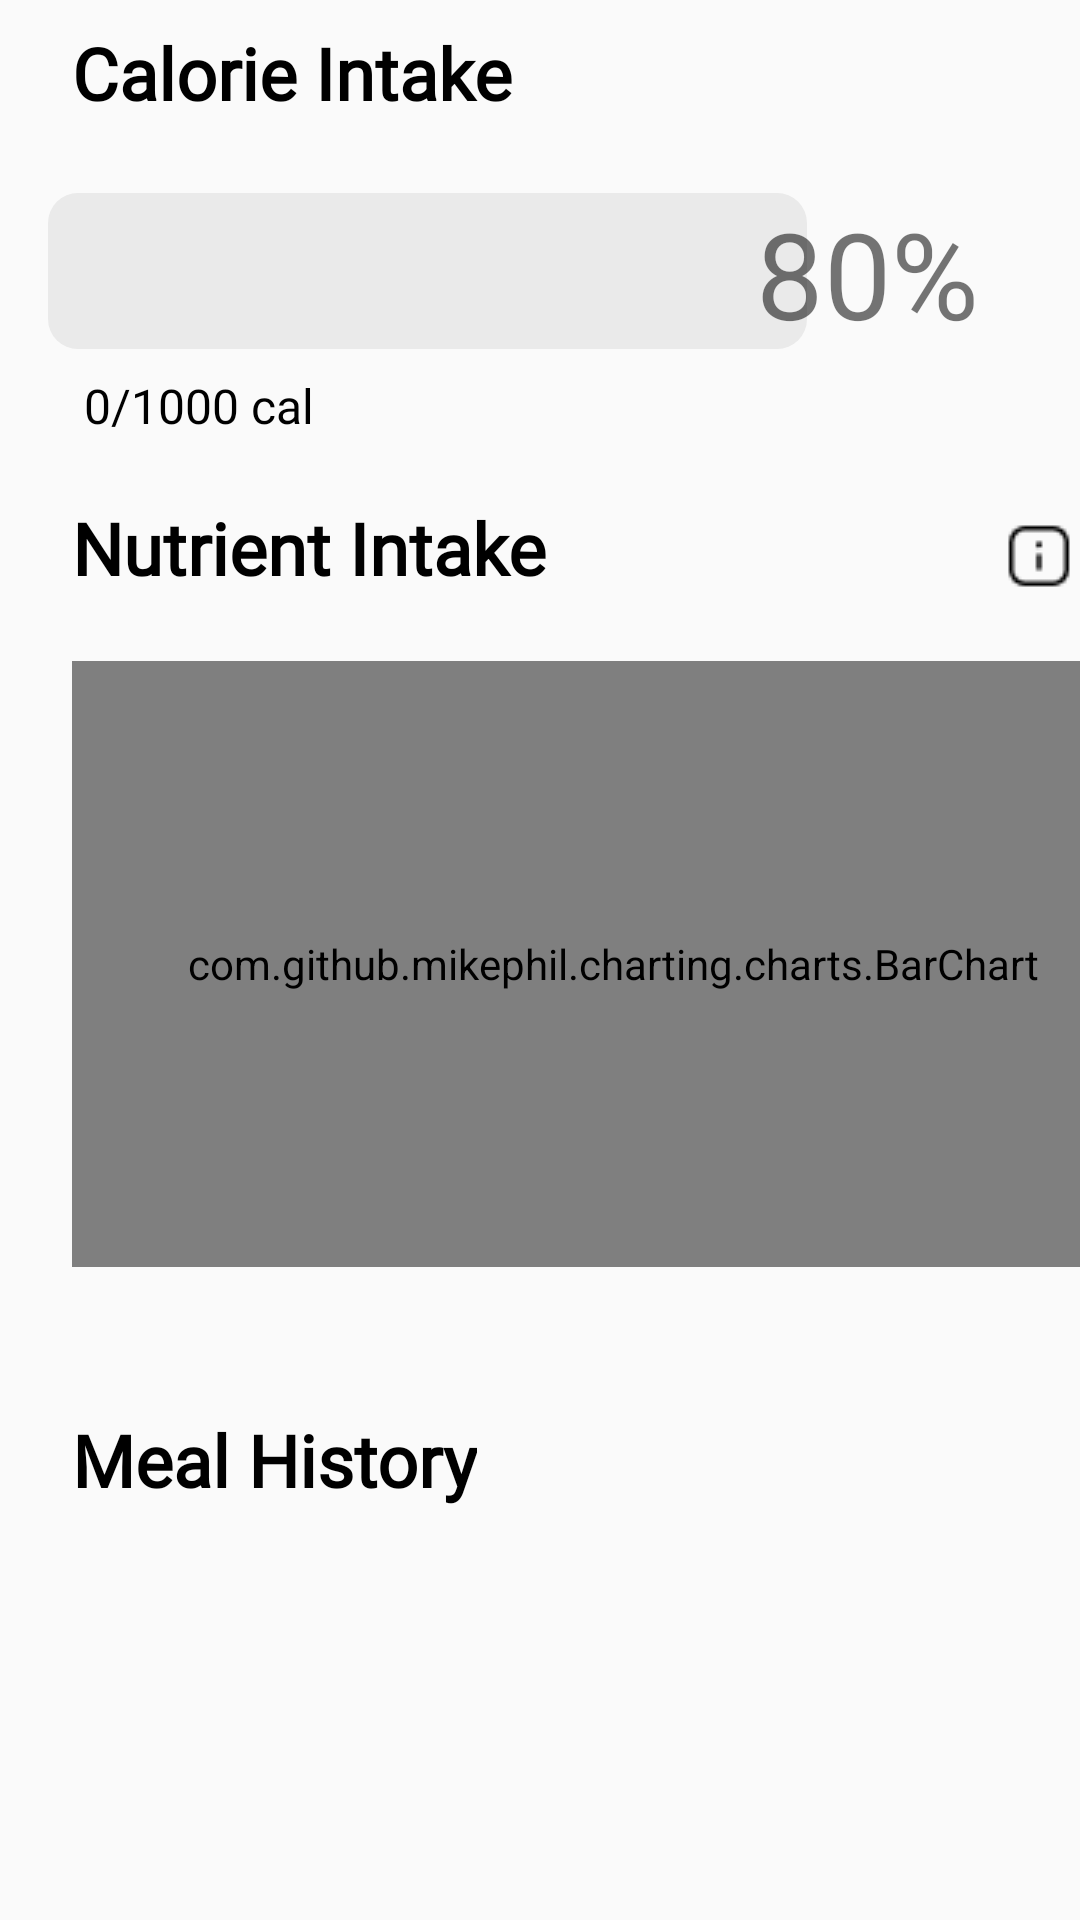

Icons on this 1080w x 1920h Android screen, each with its box as (x1, y1, x2, y2):
Information: (1008, 525, 1070, 587)
